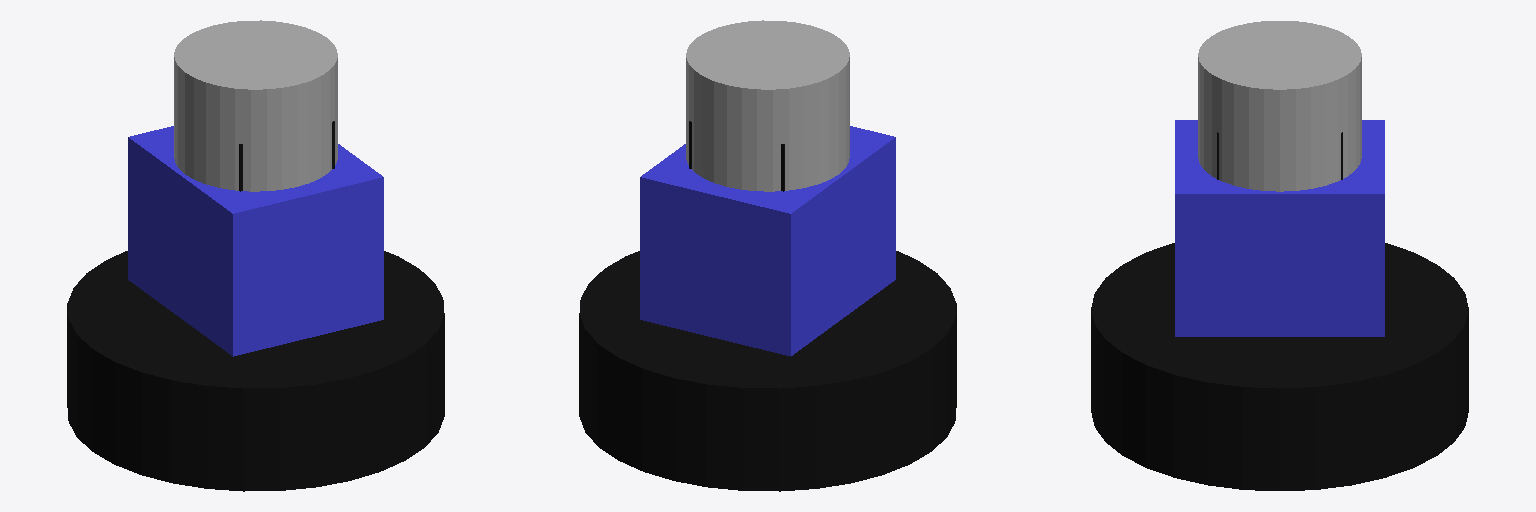
The robot description file, URDF, robot "evolved_robot":
<?xml version="1.0"?>
<robot name="evolved_robot">
  <material name="metal">
    <color rgba="0.7 0.7 0.7 1.0"/>
  </material>
  <material name="plastic">
    <color rgba="0.3 0.3 0.9 1.0"/>
  </material>
  <material name="rubber">
    <color rgba="0.1 0.1 0.1 1.0"/>
  </material>
  <material name="red">
    <color rgba="1.0 0.0 0.0 1.0"/>
  </material>
  <material name="wheel_material">
    <color rgba="0.2 0.2 0.2 1.0"/>
  </material>
  <link name="base_link">
    <visual>
      <geometry><cylinder radius="0.212961433969338" length="0.12805529624665182"/></geometry>
      <material name="rubber"/>
    </visual>
    <collision>
      <geometry><cylinder radius="0.212961433969338" length="0.12805529624665182"/></geometry>
    </collision>
    <inertial>
      <mass value="5.0"/>
      <inertia ixx="0.12704656330970657" ixy="0" ixz="0" 
               iyy="0.12704656330970657" iyz="0" 
               izz="0.22676286179138355"/>
    </inertial>
  </link>
  <link name="link1">
    <visual>
      <geometry><cylinder radius="0.05973700902867758" length="0.07570931910548462"/></geometry>
      <material name="plastic"/>
    </visual>
    <collision>
      <geometry><cylinder radius="0.05973700902867758" length="0.07570931910548462"/></geometry>
    </collision>
    <inertial>
      <mass value="0.5"/>
      <inertia ixx="0.001369785978541085" ixy="0" ixz="0" 
               iyy="0.001369785978541085" iyz="0" 
               izz="0.0017842551238461534"/>
    </inertial>
  </link>
  <joint name="joint1" type="prismatic">
    <parent link="base_link"/>
    <child link="link1"/>
    <origin xyz="0 0 0.06402764812332591" rpy="0 0 0"/>
    <axis xyz="0.015433249640714922 -0.3727810649990402 0.9277909745108047"/>
    <dynamics damping="0.4916464604882881" friction="0.1"/>
    <limit lower="-2.3564205883477847" upper="2.6787050389928373" effort="100" velocity="100"/>
  </joint>
  <link name="link2">
    <visual>
      <geometry><box size="0.0913633703432995 0.11184456898806504 0.24986356730430942"/></geometry>
      <material name="plastic"/>
    </visual>
    <collision>
      <geometry><box size="0.0913633703432995 0.11184456898806504 0.24986356730430942"/></geometry>
    </collision>
    <inertial>
      <mass value="0.5"/>
      <inertia ixx="0.006245084156513433" ixy="0" ixz="0" 
               iyy="0.005898255642210172" iyz="0" 
               izz="0.0017380394210510782"/>
    </inertial>
  </link>
  <joint name="joint2" type="floating">
    <parent link="base_link"/>
    <child link="link2"/>
    <origin xyz="0 0 0.11402764812332591" rpy="0 0 0"/>
    <axis xyz="0.4125926684597669 0.36699732108545624 0.8337147331367889"/>
    <dynamics damping="0.8918216140598217" friction="0.1"/>
  </joint>
  <link name="link3">
    <visual>
      <geometry><box size="0.1964524818974509 0.23692683161391276 0.177448172397545"/></geometry>
      <material name="plastic"/>
    </visual>
    <collision>
      <geometry><box size="0.1964524818974509 0.23692683161391276 0.177448172397545"/></geometry>
    </collision>
    <inertial>
      <mass value="0.5"/>
      <inertia ixx="0.0073018481188196855" ixy="0" ixz="0" 
               iyy="0.005840119294241428" iyz="0" 
               izz="0.007893991765189637"/>
    </inertial>
  </link>
  <joint name="joint3" type="fixed">
    <parent link="base_link"/>
    <child link="link3"/>
    <origin xyz="0 0 0.16402764812332593" rpy="0 0 0"/>
    <axis xyz="0.23210899487847153 0.7282443911255468 -0.644814330866403"/>
    <dynamics damping="0.21045667114747402" friction="0.1"/>
  </joint>
  <link name="link4">
    <visual>
      <geometry><sphere radius="0.025453429318842497"/></geometry>
      <material name="rubber"/>
    </visual>
    <collision>
      <geometry><sphere radius="0.025453429318842497"/></geometry>
    </collision>
    <inertial>
      <mass value="0.5"/>
      <inertia ixx="0.0002591508256357243" ixy="0" ixz="0" 
               iyy="0.0002591508256357243" iyz="0" 
               izz="0.0002591508256357243"/>
    </inertial>
  </link>
  <joint name="joint4" type="revolute">
    <parent link="base_link"/>
    <child link="link4"/>
    <origin xyz="0 0 0.21402764812332592" rpy="0 0 0"/>
    <axis xyz="-0.536072329896902 0.35531257427288937 0.7657541587758304"/>
    <dynamics damping="0.29303774938440097" friction="0.1"/>
    <limit lower="-0.0" upper="1.8389894793553705" effort="100" velocity="100"/>
  </joint>
  <link name="link5">
    <visual>
      <geometry><box size="0.12355306470508931 0.14218849330853667 0.09456781277942478"/></geometry>
      <material name="rubber"/>
    </visual>
    <collision>
      <geometry><box size="0.12355306470508931 0.14218849330853667 0.09456781277942478"/></geometry>
    </collision>
    <inertial>
      <mass value="0.5"/>
      <inertia ixx="0.002430053236936343" ixy="0" ixz="0" 
               iyy="0.002017369250992027" iyz="0" 
               izz="0.0029569106189476467"/>
    </inertial>
  </link>
  <joint name="joint5" type="prismatic">
    <parent link="base_link"/>
    <child link="link5"/>
    <origin xyz="0 0 0.2640276481233259" rpy="0 0 0"/>
    <axis xyz="0.49370504508167085 -0.6328515977681178 0.5964513254769795"/>
    <dynamics damping="0.9190691409169894" friction="0.1"/>
    <limit lower="-0.06631870370802115" upper="0.8761247470282771" effort="100" velocity="100"/>
  </joint>
  <link name="link6">
    <visual>
      <geometry><cylinder radius="0.09243443535594412" length="0.1309749899245123"/></geometry>
      <material name="metal"/>
    </visual>
    <collision>
      <geometry><cylinder radius="0.09243443535594412" length="0.1309749899245123"/></geometry>
    </collision>
    <inertial>
      <mass value="0.5"/>
      <inertia ixx="0.0035655685420368944" ixy="0" ixz="0" 
               iyy="0.0035655685420368944" iyz="0" 
               izz="0.004272062419786106"/>
    </inertial>
  </link>
  <joint name="joint6" type="revolute">
    <parent link="base_link"/>
    <child link="link6"/>
    <origin xyz="0 0 0.3140276481233259" rpy="0 0 0"/>
    <axis xyz="-0.2547044275269864 0.9289603853082379 0.2686228901752795"/>
    <dynamics damping="0.4531494086200656" friction="0.1"/>
    <limit lower="-0.45957136471378096" upper="1.7748438257456958" effort="100" velocity="100"/>
  </joint>
</robot>

--- What the picture shows (computed from the rendered views, not written in the file) ---
Views: 3 orthographic renders of the robot side by side, from view 1: azimuth 30°, elevation 25°; view 2: azimuth 150°, elevation 25°; view 3: azimuth 270°, elevation 25°.
Robot: evolved_robot — 7 links, 6 joints (2 revolute, 2 prismatic, 1 fixed, 1 floating); root link base_link; default pose: every joint at zero.
Visible links, largest first — view 1: base_link, link3, link6; view 2: base_link, link3, link6; view 3: base_link, link3, link6.
Link boxes in pixels (x1=…): base_link: x1=67, y1=251, x2=444, y2=491; link3: x1=128, y1=126, x2=383, y2=356; link6: x1=174, y1=20, x2=337, y2=191; base_link: x1=579, y1=251, x2=956, y2=491; link3: x1=640, y1=126, x2=895, y2=356; link6: x1=686, y1=20, x2=849, y2=191; base_link: x1=1091, y1=243, x2=1468, y2=490; link3: x1=1175, y1=120, x2=1384, y2=336; link6: x1=1198, y1=21, x2=1361, y2=191.
Bounding box of the posed robot: 0.4259 × 0.4259 × 0.4435 m (x, y, z).
Geometry: primitives only (box / cylinder / sphere), no mesh files.